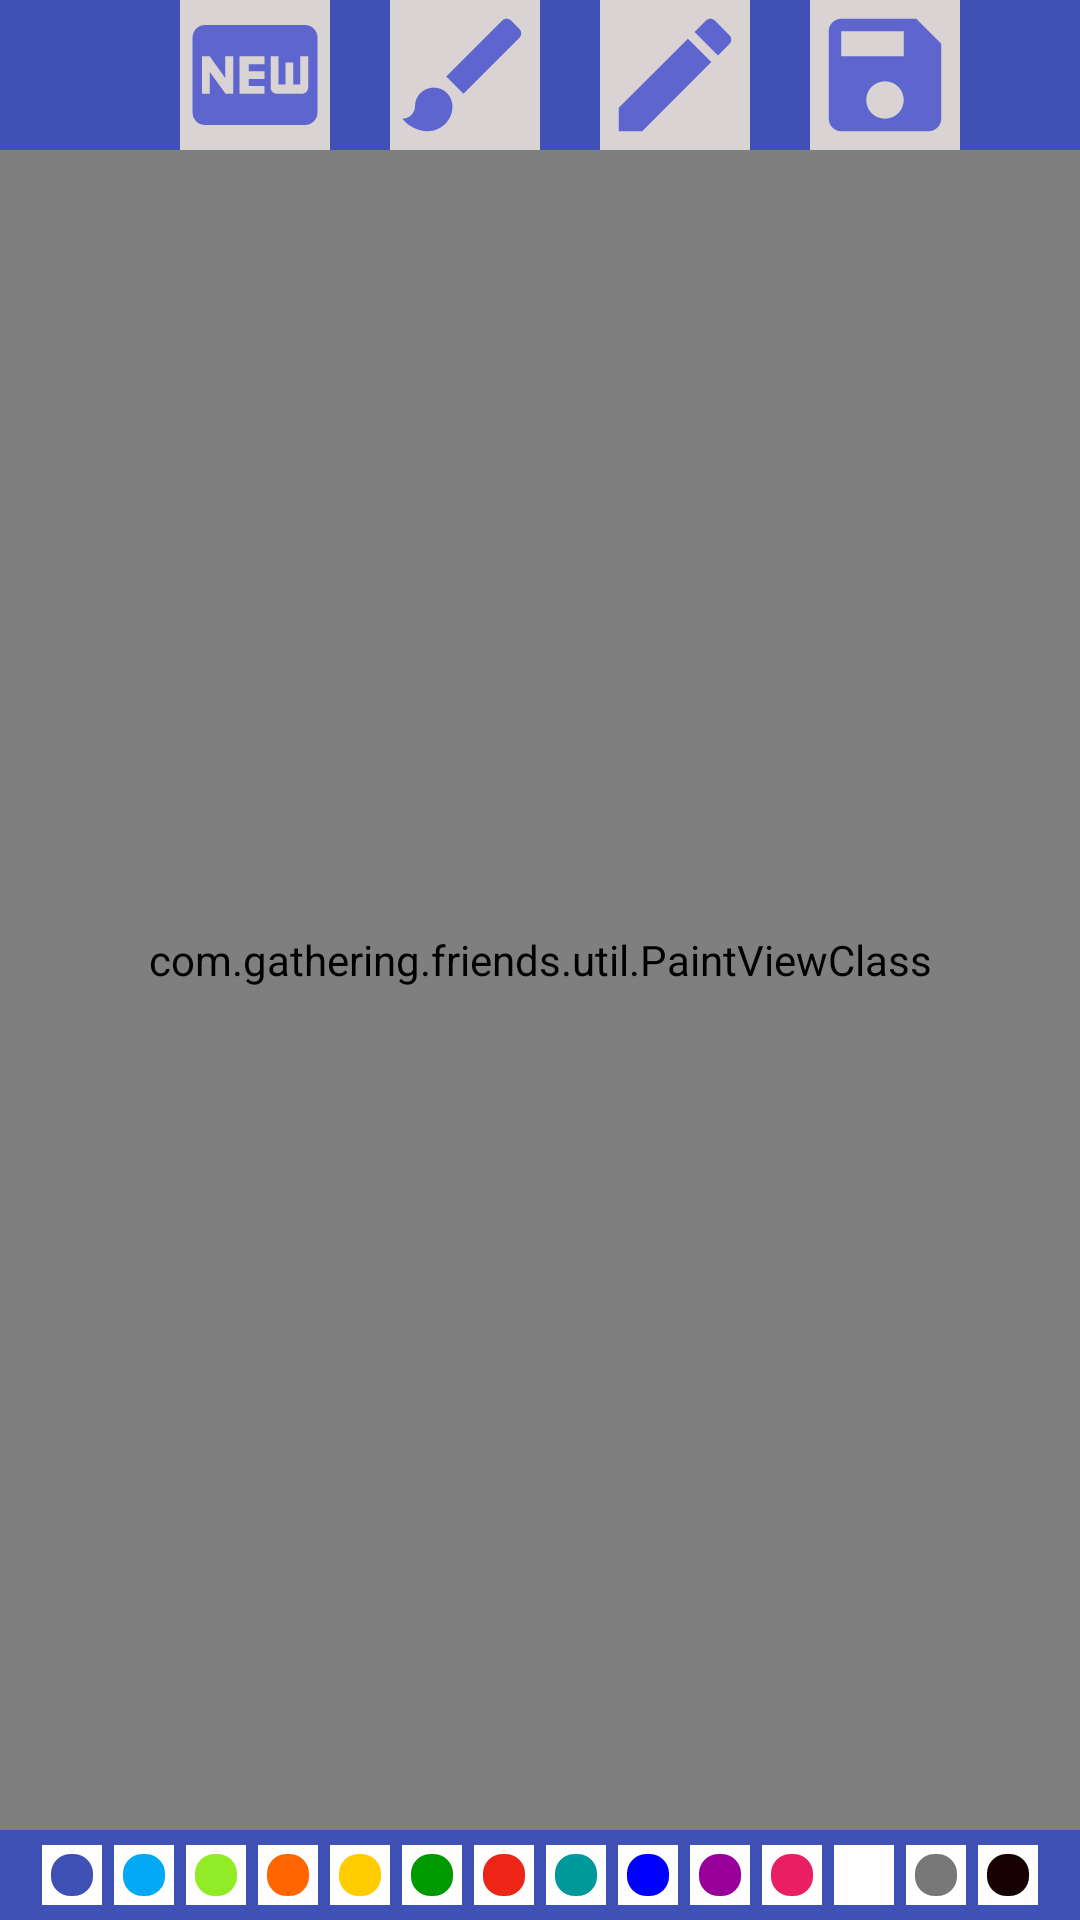

Icon click points for this 1080w x 1920h phone screenshot, format (x=x, y=y):
Brush: (x=465, y=75)
Save: (x=885, y=75)
